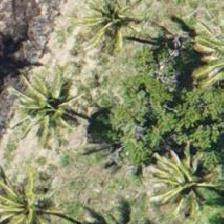coconut_tree: (0, 62, 90, 152), (134, 138, 223, 223), (63, 0, 153, 62), (0, 161, 60, 223)
